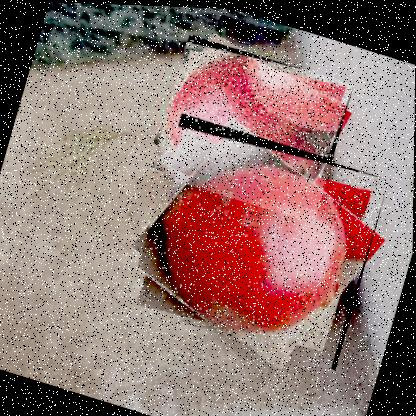pomegranate: (125, 111, 390, 369), (149, 30, 354, 220)
